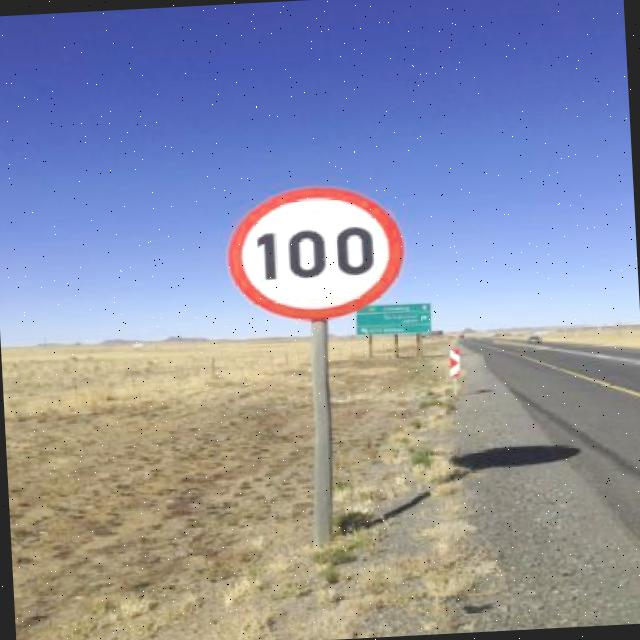Ograniczenie predkosci do 100: (224, 182, 406, 332)
